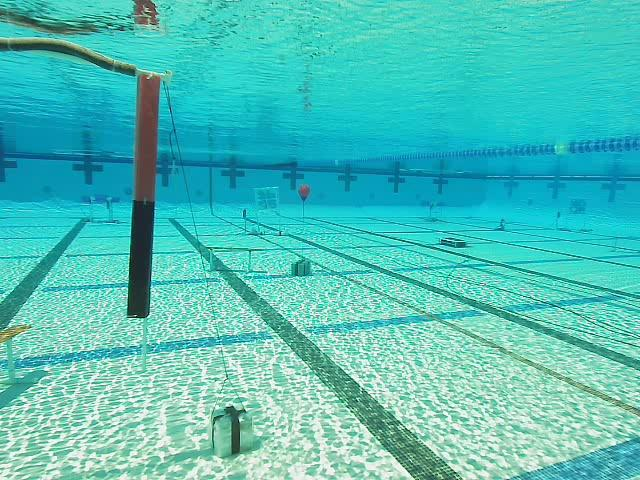buoy: (298, 185, 310, 202)
gate_leg_r: (127, 69, 161, 320)
table: (83, 195, 121, 223)
torpedo: (254, 187, 279, 212)
